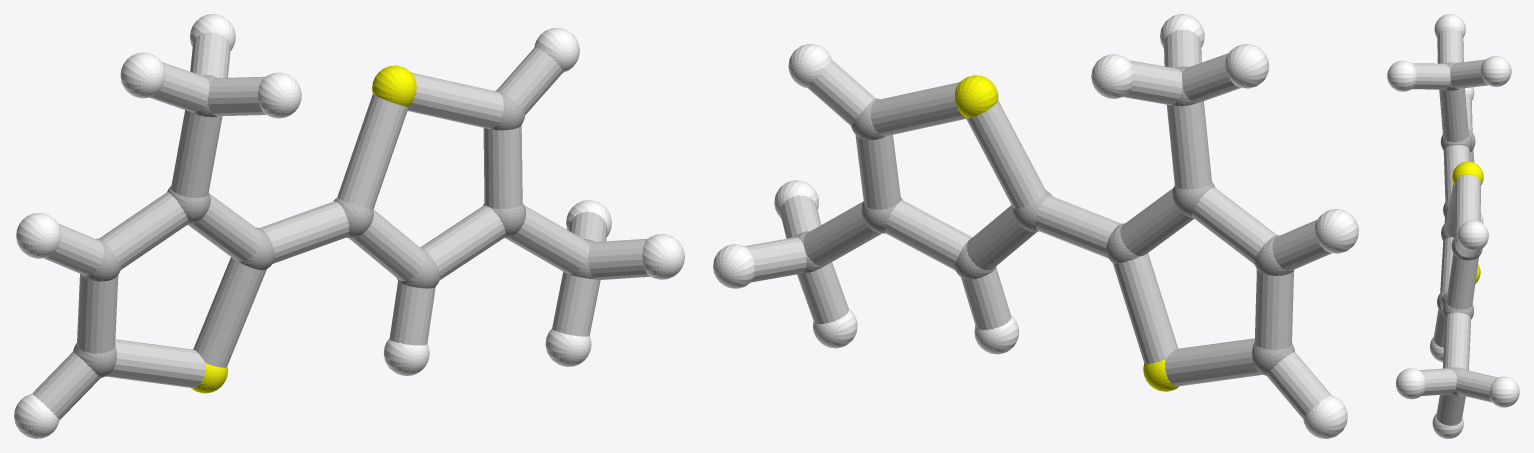
The model's file is color.glb.
3 renders of one model, left to right at view 1: azimuth 30°, elevation 25°; view 2: azimuth 150°, elevation 25°; view 3: azimuth 270°, elevation 25°, orthographic. The views are drawn at different scales.
Visible parts, largest first — view 1: grp7965, grp3621, grp1, grp7241; view 2: grp7965, grp3621, grp1, grp7241; view 3: grp7965, grp3621, grp1, grp7241.
Boxes of the visible parts, x1=… form: grp7965: x1=32, y1=32, x2=650, y2=419; grp3621: x1=14, y1=14, x2=684, y2=438; grp1: x1=73, y1=75, x2=595, y2=377; grp7241: x1=191, y1=65, x2=416, y2=393; grp7965: x1=744, y1=29, x2=1331, y2=418; grp3621: x1=713, y1=14, x2=1358, y2=438; grp1: x1=794, y1=66, x2=1294, y2=375; grp7241: x1=955, y1=75, x2=1179, y2=391; grp7965: x1=1412, y1=28, x2=1498, y2=425; grp3621: x1=1387, y1=14, x2=1519, y2=438; grp1: x1=1437, y1=62, x2=1482, y2=395; grp7241: x1=1452, y1=161, x2=1483, y2=283.
Bounding box in the file's own units: 9.46 × 5.94 × 2.53.
